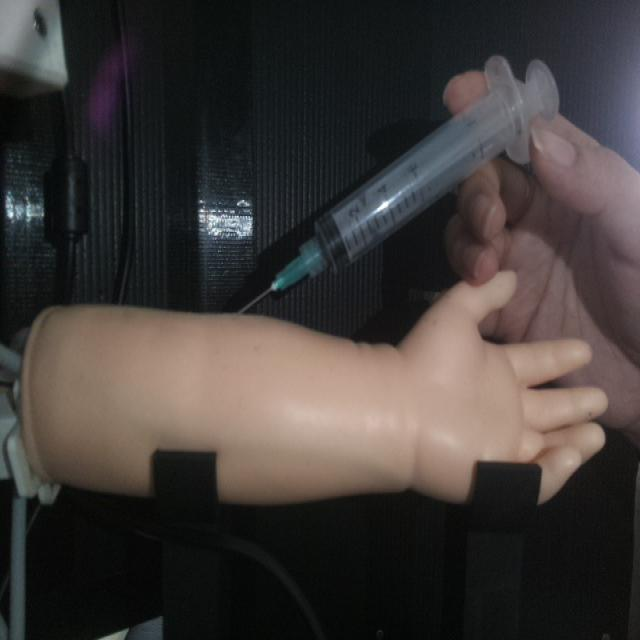Outside: (231, 51, 561, 314)
